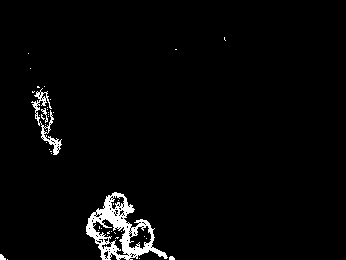person: (20, 83, 63, 165)
